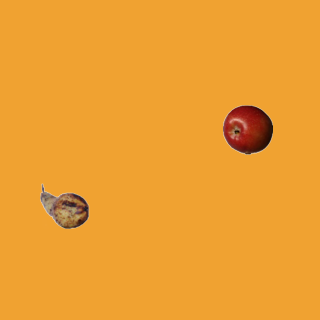Apple Braeburn: (222, 104, 272, 154)
Pear Abate: (39, 181, 89, 231)
